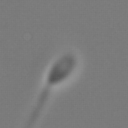normal: (20, 82, 52, 128)
